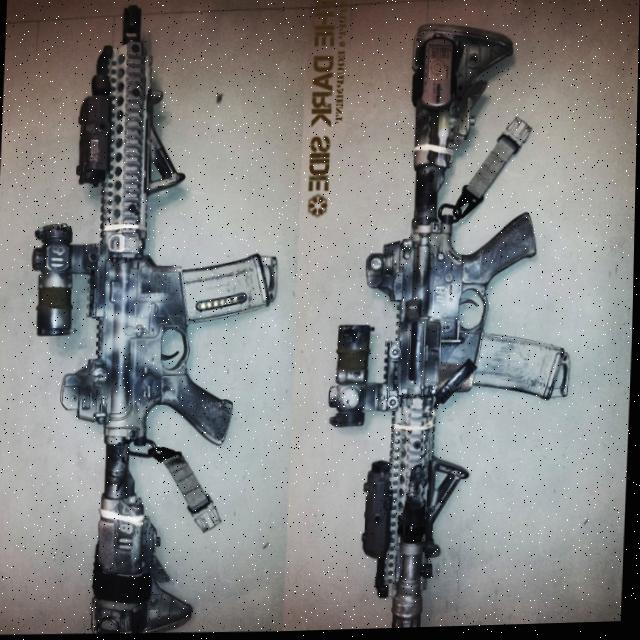firearm: (21, 0, 286, 638), (319, 19, 582, 632)
